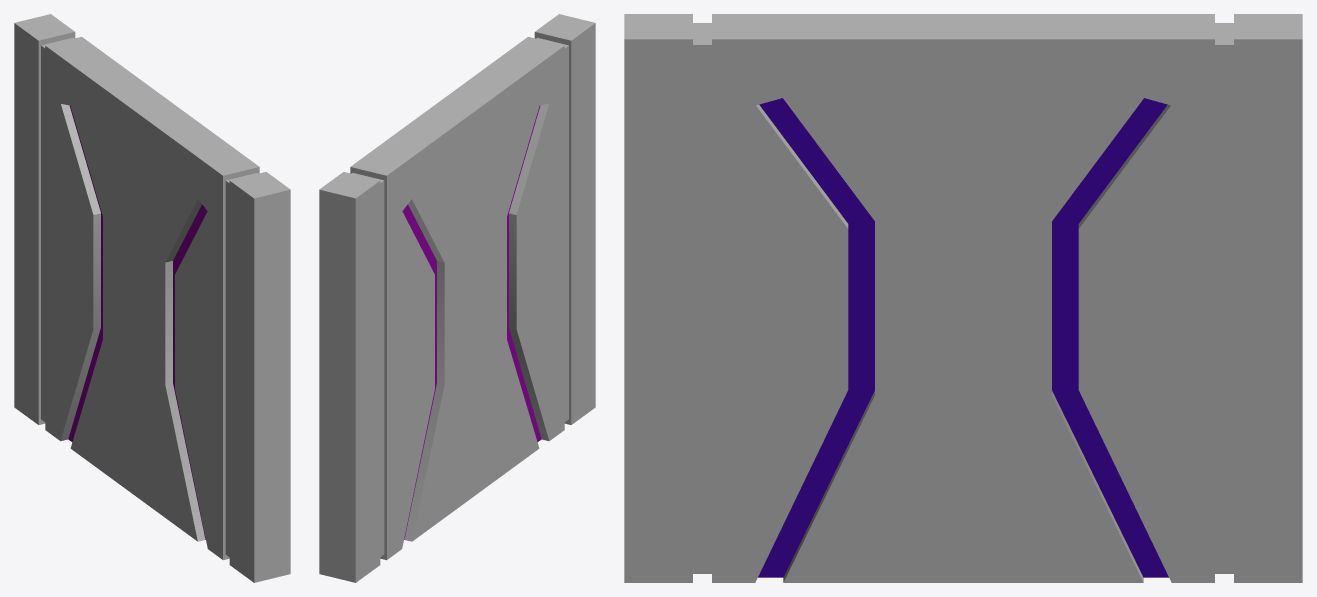
Rendered from Door_up_2.fbx.
3 views of the same model, side by side, from view 1: azimuth 30°, elevation 25°; view 2: azimuth 150°, elevation 25°; view 3: azimuth 270°, elevation 25° (orthographic). The views are drawn at different scales.
Visible parts, largest first — view 1: Door_up, Lighting_door; view 2: Door_up, Lighting_door; view 3: Door_up, Lighting_door.
Boxes of the visible parts, x1,y1,x2,y2 form: Door_up: (14,14,290,582); Lighting_door: (68,105,207,539); Door_up: (319,14,595,582); Lighting_door: (402,105,541,539); Door_up: (624,14,1302,582); Lighting_door: (758,98,1168,577).
Bounding box in the file's own units: 44.37 × 446 × 504.
